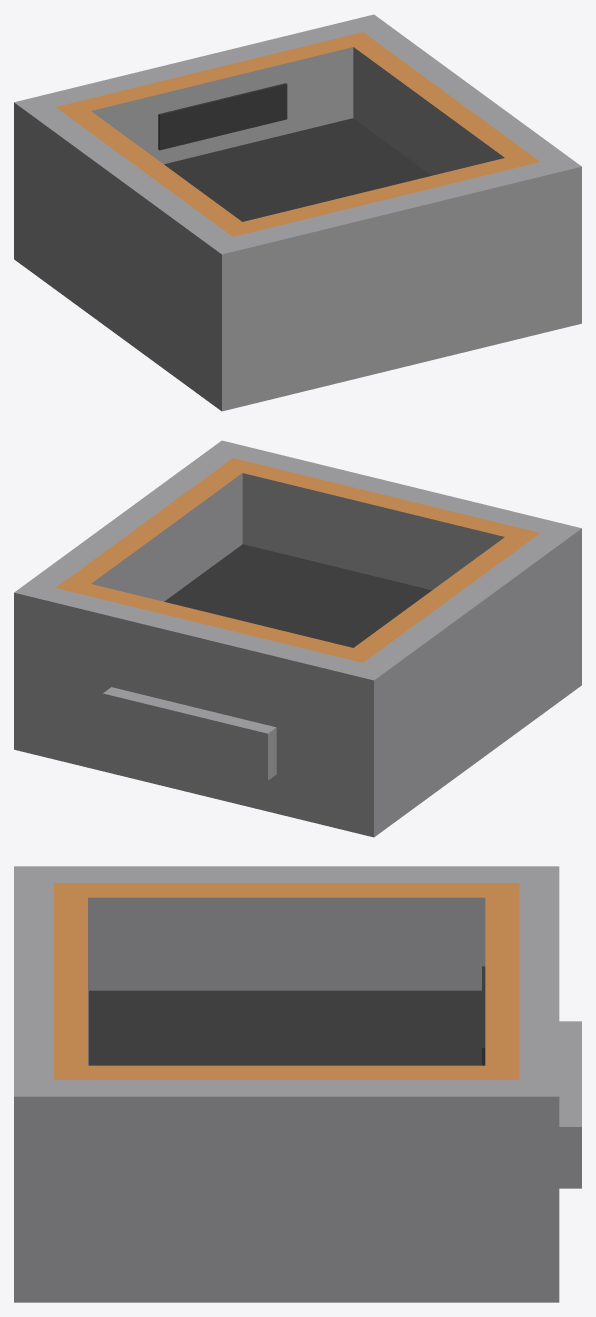
File: vfef_hopper_input.obj
The picture shows the model from 3 angles, top to bottom: view 1: azimuth 30°, elevation 25°; view 2: azimuth 150°, elevation 25°; view 3: azimuth 270°, elevation 25°; orthographic projection. The views are drawn at different scales.
Visible parts, largest first — view 1: vfef_hopper_input_0, vfef_hopper_input_1, vfef_hopper_input_2, vfef_hopper_input_3; view 2: vfef_hopper_input_0, vfef_hopper_input_1, vfef_hopper_input_2, vfef_hopper_input_4; view 3: vfef_hopper_input_0, vfef_hopper_input_2, vfef_hopper_input_1, vfef_hopper_input_4.
Part boxes in pixels (left/top/right/bottom): vfef_hopper_input_0: left=14, top=14, right=581, bottom=411; vfef_hopper_input_1: left=56, top=32, right=539, bottom=236; vfef_hopper_input_2: left=164, top=118, right=431, bottom=221; vfef_hopper_input_3: left=158, top=83, right=287, bottom=150; vfef_hopper_input_0: left=14, top=440, right=581, bottom=837; vfef_hopper_input_1: left=56, top=458, right=539, bottom=662; vfef_hopper_input_2: left=164, top=544, right=431, bottom=647; vfef_hopper_input_4: left=103, top=687, right=276, bottom=780; vfef_hopper_input_0: left=14, top=866, right=559, bottom=1302; vfef_hopper_input_2: left=89, top=990, right=481, bottom=1065; vfef_hopper_input_1: left=53, top=883, right=519, bottom=1079; vfef_hopper_input_4: left=559, top=1021, right=581, bottom=1188.
Bounding box in the file's own units: 0.96 × 0.4 × 1.
